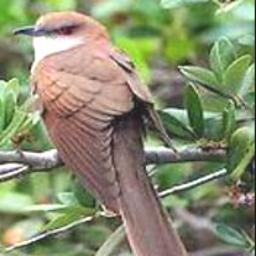Cuckoo: (12, 11, 193, 256)
